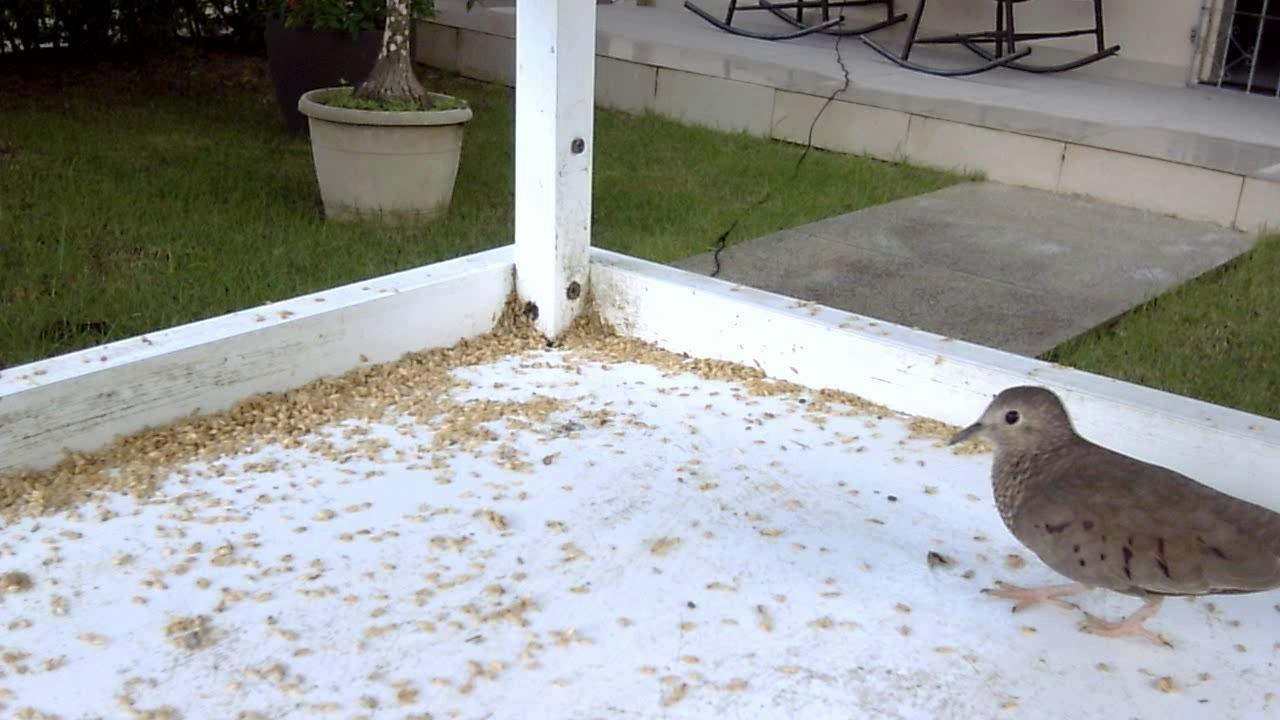rolinha: (931, 376, 1273, 639)
